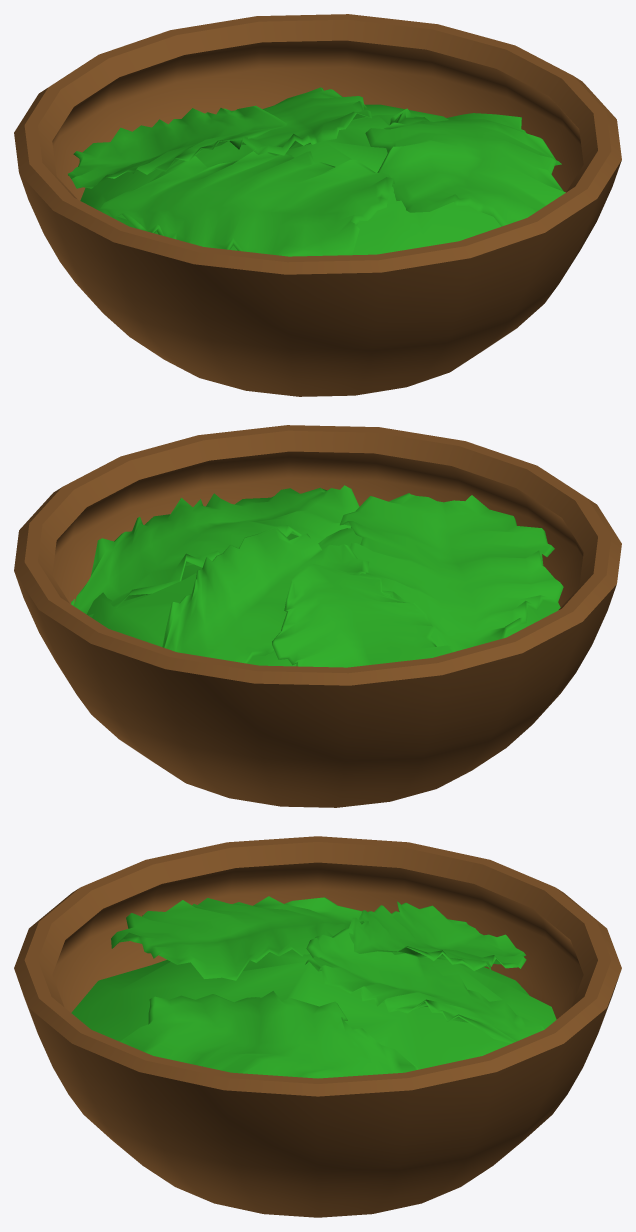
File: mesh_bowl_lettuce.fbx
The picture shows the model from 3 angles, top to bottom: view 1: azimuth 30°, elevation 25°; view 2: azimuth 150°, elevation 25°; view 3: azimuth 270°, elevation 25°; orthographic projection.
Visible parts, largest first — view 1: mesh_bowl_lettuce; view 2: mesh_bowl_lettuce; view 3: mesh_bowl_lettuce.
Part boxes in pixels (x1,y1,x2,y2): mesh_bowl_lettuce: (14,14,621,396); mesh_bowl_lettuce: (14,425,621,807); mesh_bowl_lettuce: (14,836,621,1217).
Bounding box in the file's own units: 0.2166 × 0.0775 × 0.2167.
